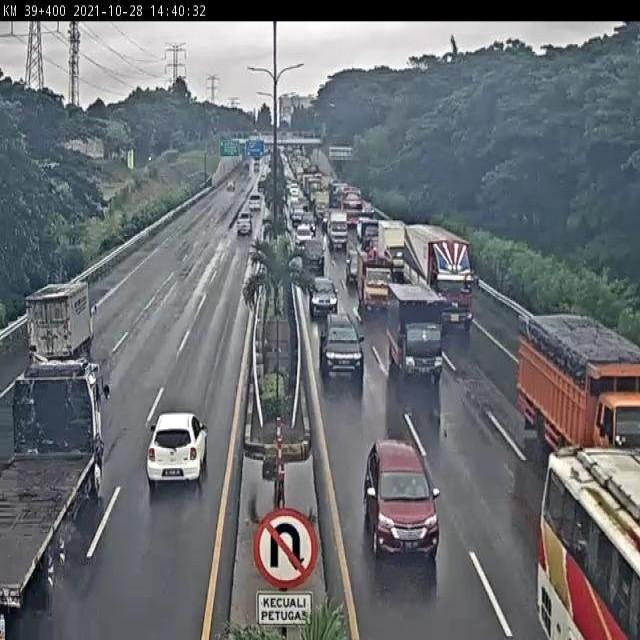big bus: (511, 413, 640, 640)
big truck: (0, 364, 106, 636), (401, 223, 475, 329)
car: (362, 443, 439, 552), (147, 415, 205, 488), (320, 311, 363, 377), (308, 272, 337, 316), (302, 242, 325, 274)
mid truck: (517, 312, 640, 461)
small truck: (27, 280, 95, 367), (390, 283, 445, 377), (358, 261, 390, 315), (378, 220, 407, 277)
